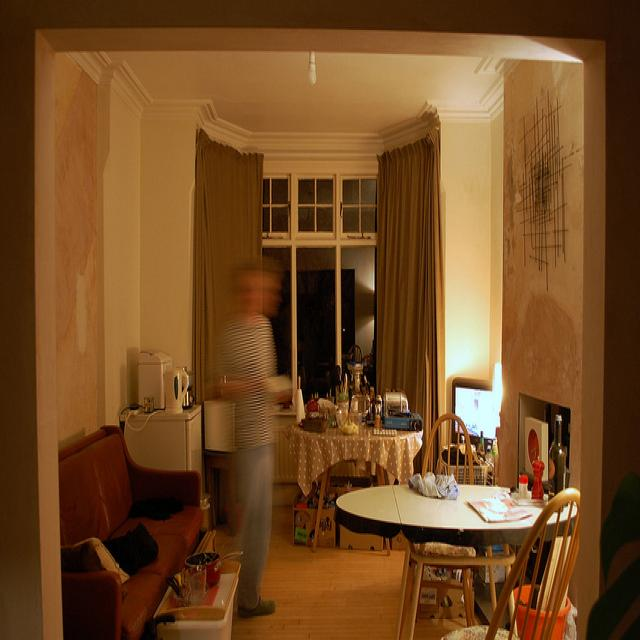chair: (488, 488, 583, 630), (422, 415, 475, 480)
dining table: (334, 471, 579, 542)
